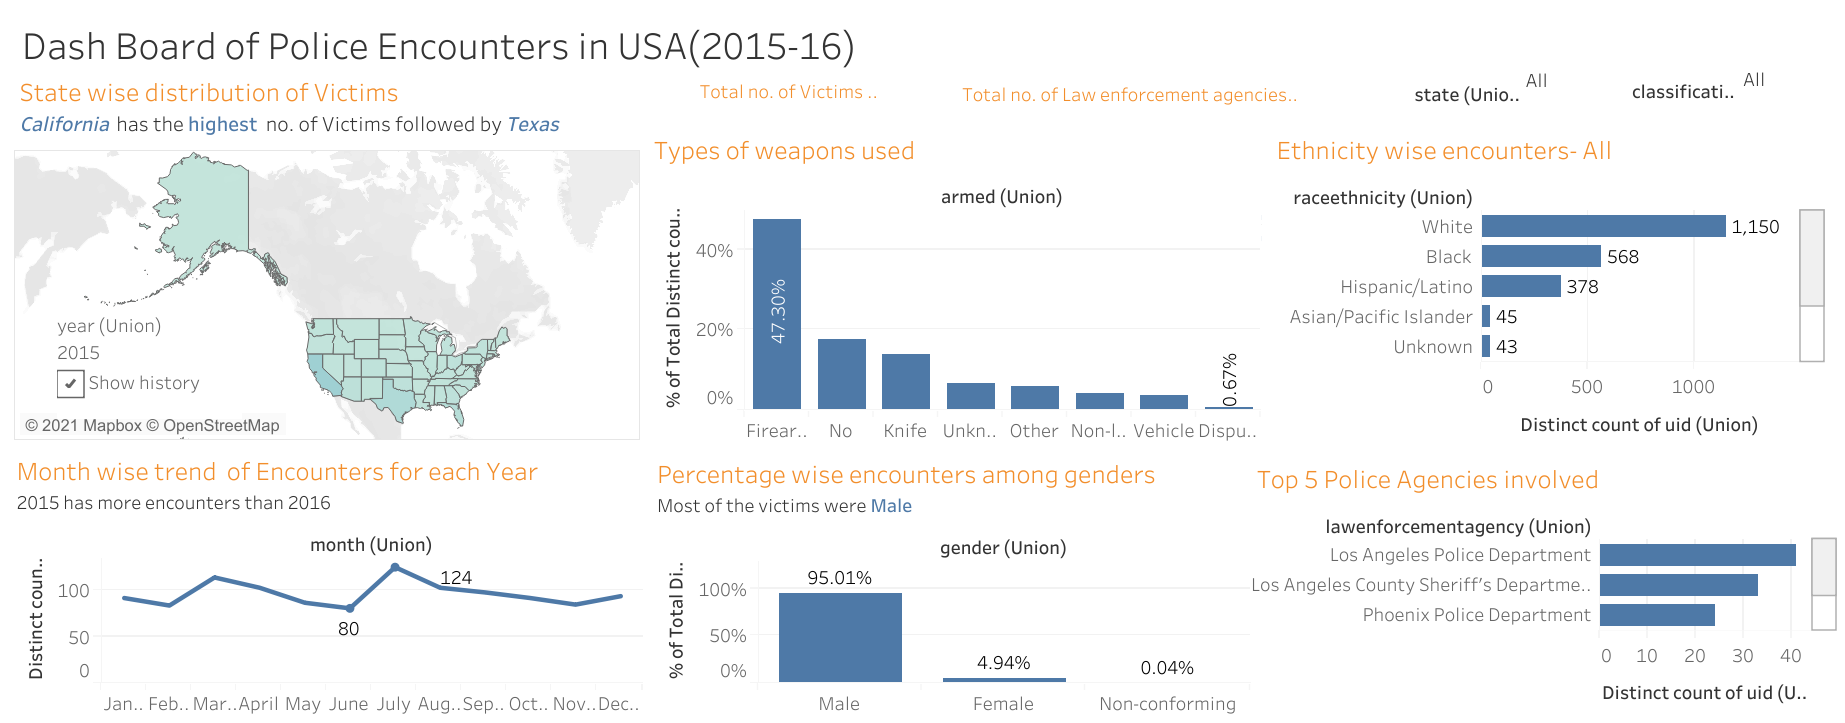

The page's visual inventory and layout, read from the dashboard file:
{"tool":"tableau","page":{"name":"Dashboard 1","canvas":[1000,1000],"units":"permille","ordinal":0},"visuals":[{"type":"worksheet","box":[0,0,1000,1000]},{"type":"worksheet","param":"vert","box":[4.9,9.8,990.2,980.4]},{"type":"worksheet","box":[4.9,9.8,990.2,70.9]},{"type":"worksheet","box":[4.9,80.7,990.2,909.5]},{"type":"worksheet","box":[370.2,85.6,107.6,61.1]},{"type":"worksheet","title":"Q1","mark":"Multipolygon","box":[7.4,89.2,482.8,519.6]},{"type":"worksheet","title":"Q3","mark":"Automatic","rows":["raceethnicity (Union)"],"cols":["uid (Union)"],"param":"[federated.1yli2571qkb7qw14p74z91cphhro].[none:classification (Union):nk]","box":[883.8,89.2,100.2,70.9]},{"type":"worksheet","box":[519.3,90.5,275.6,72.1]},{"type":"worksheet","title":"Q1","mark":"Multipolygon","param":"[federated.1yli2571qkb7qw14p74z91cphhro].[none:state (Union):nk]","box":[766.3,90.5,99.6,75.8]},{"type":"worksheet","title":"Q3","mark":"Automatic","rows":["raceethnicity (Union)"],"cols":["uid (Union)"],"box":[496.3,187,492,416.9]},{"type":"worksheet","title":"Q2","mark":"Line","rows":["uid (Union)"],"cols":["month (Union)"],"box":[31.2,426.7,99.8,151.6]},{"type":"worksheet","title":"Q4","mark":"Automatic","cols":["gender (Union)"],"box":[504.9,607.6,487.1,370.4]},{"type":"worksheet","title":"Q2","mark":"Line","rows":["uid (Union)"],"cols":["month (Union)"],"box":[5.5,613.7,484,372.9]}]}

Visuals, with their boxes on the dashboard's canvas, which has no fixed pixel size, in thousandths of its width and height (x1, y1, x2, y2). These are canvas units, not pixel positions in the 1845x723 screenshot, which may show the page scaled, cropped or inside an application window:
worksheet: (left=0, top=0, right=1000, bottom=1000)
worksheet: (left=5, top=10, right=995, bottom=990)
worksheet: (left=5, top=10, right=995, bottom=81)
worksheet: (left=5, top=81, right=995, bottom=990)
worksheet: (left=370, top=86, right=478, bottom=147)
"Q1" worksheet (Multipolygon marks): (left=7, top=89, right=490, bottom=609)
"Q3" worksheet: (left=884, top=89, right=984, bottom=160)
worksheet: (left=519, top=90, right=795, bottom=163)
"Q1" worksheet (Multipolygon marks): (left=766, top=90, right=866, bottom=166)
"Q3" worksheet: (left=496, top=187, right=988, bottom=604)
"Q2" worksheet (Line marks): (left=31, top=427, right=131, bottom=578)
"Q4" worksheet: (left=505, top=608, right=992, bottom=978)
"Q2" worksheet (Line marks): (left=6, top=614, right=490, bottom=987)
